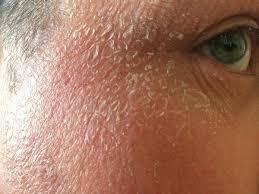Dry-Skin: (54, 6, 198, 160)
